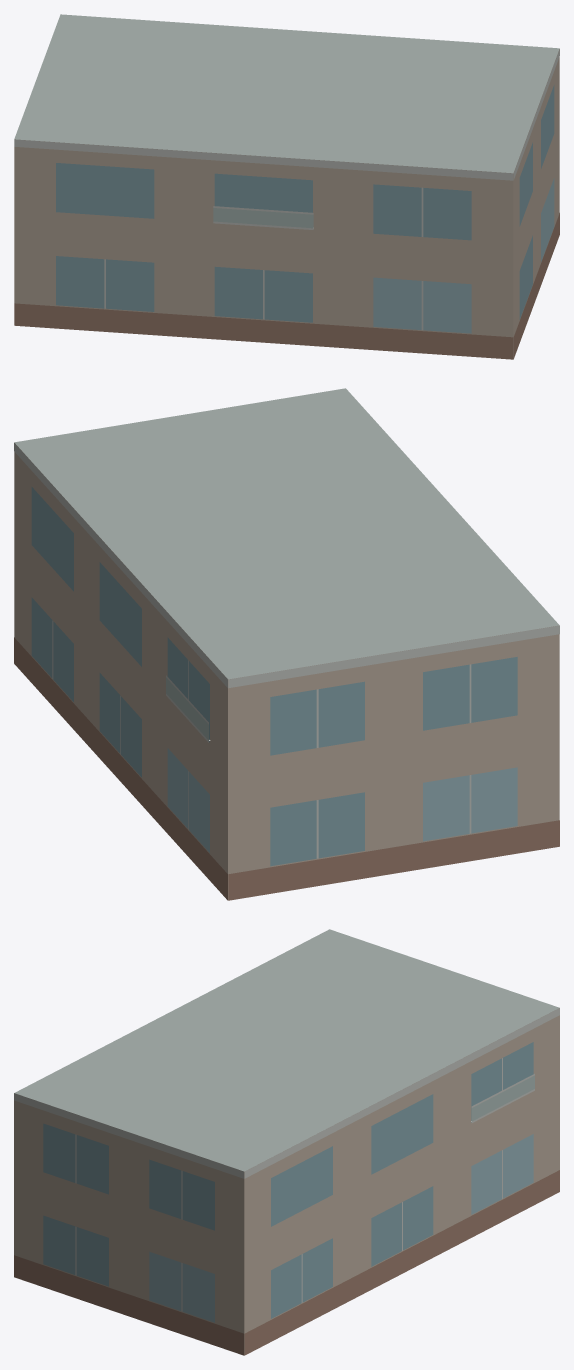
File: survey-upis-32808895.glb
3 views of the same model, one above another, from view 1: azimuth 30°, elevation 25°; view 2: azimuth 150°, elevation 25°; view 3: azimuth 270°, elevation 25° (orthographic). The views are drawn at different scales.
Visible parts, largest first — view 1: survey-upis-32808895.tmp; view 2: survey-upis-32808895.tmp; view 3: survey-upis-32808895.tmp.
Boxes of the visible parts, x1,y1,x2,y2 form: survey-upis-32808895.tmp: (14,14,559,359); survey-upis-32808895.tmp: (14,388,559,900); survey-upis-32808895.tmp: (14,929,559,1355).
Size of the model in its own units: 17.23 by 6.1 by 16.39.
